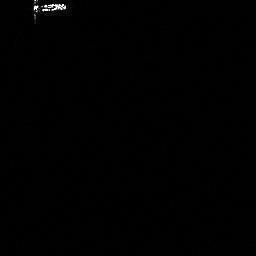ship: (23, 1, 80, 23)
